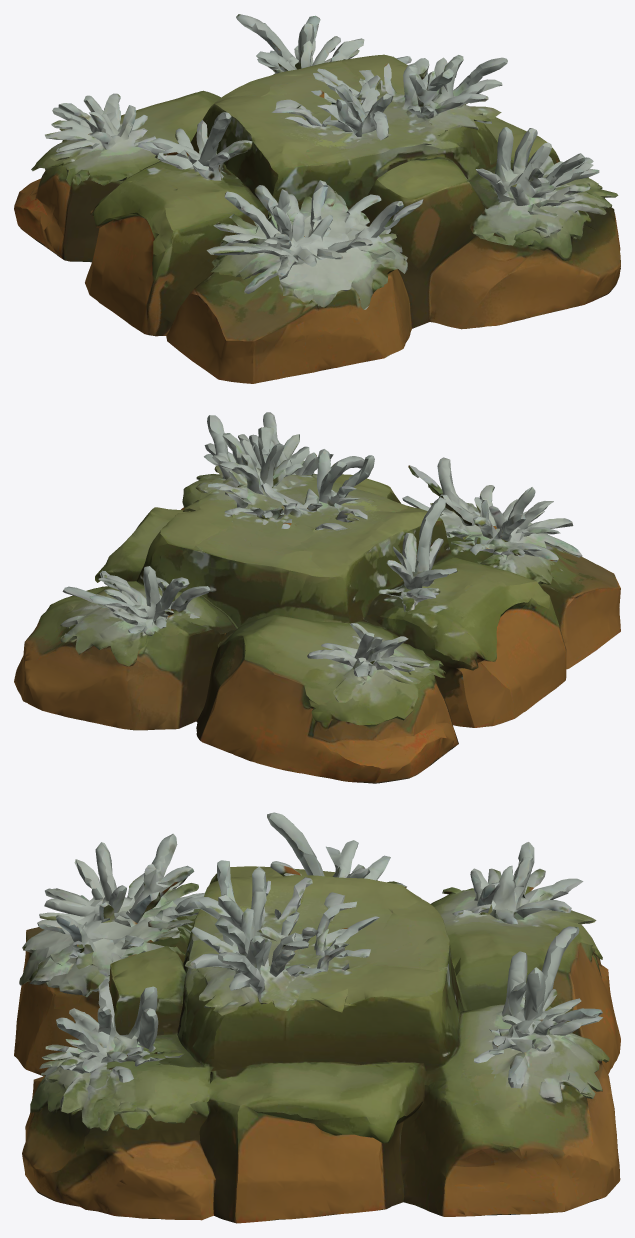
The model's file is item_snow_moss.glb.
3 renders of one model, top to bottom at view 1: azimuth 30°, elevation 25°; view 2: azimuth 150°, elevation 25°; view 3: azimuth 270°, elevation 25°, orthographic. The views are drawn at different scales.
Parts seen in each view (by area): view 1: item_snow_moss; view 2: item_snow_moss; view 3: item_snow_moss.
Boxes of the visible parts, x1=… form: item_snow_moss: x1=14, y1=14, x2=620, y2=383; item_snow_moss: x1=14, y1=412, x2=620, y2=783; item_snow_moss: x1=14, y1=812, x2=620, y2=1223.
Bounding box in the file's own units: 0.15 × 0.061 × 0.1482.
1 material, 1 textured.
